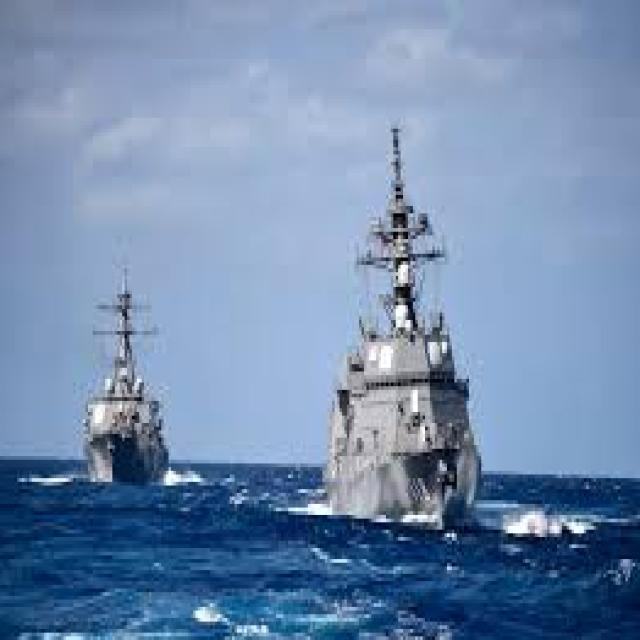navalvessels: (297, 120, 520, 526), (63, 281, 188, 487)
